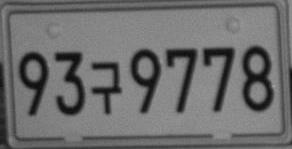3: (54, 51, 85, 116)
7: (202, 47, 235, 112), (165, 48, 198, 112)
8: (241, 45, 275, 111)
9: (129, 48, 161, 113), (17, 51, 49, 115)
구: (90, 61, 122, 114)
